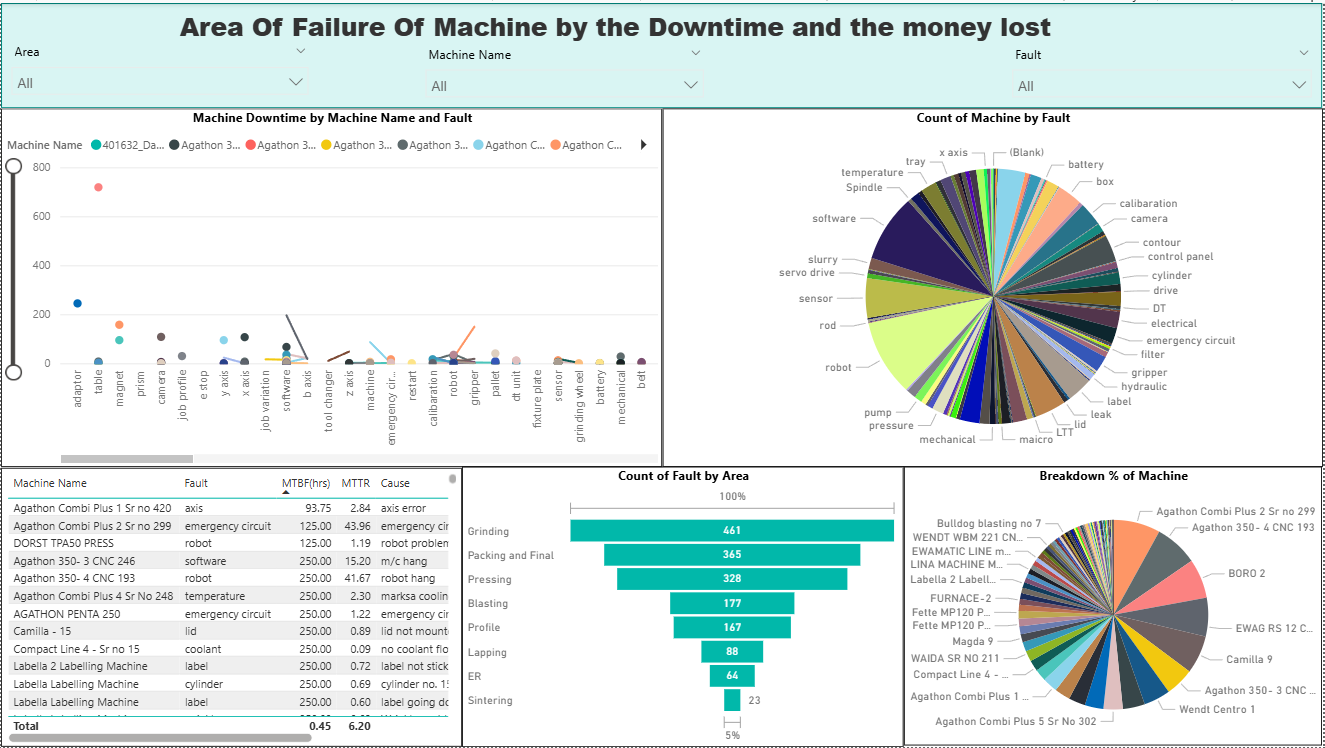

Layout of this report page (visuals, bound fields, positions):
{"tool":"powerbi","page":{"name":"FTM Analysis","canvas":[1280,720],"ordinal":0},"visuals":[{"type":"lineChart","title":"Machine Downtime by Machine Name and Fault","fields":{"Category":["Sheet1.Category of cause"],"Y":["Avg(Sheet1.Machine Downtime)"],"Series":["Sheet1.Machine Name"]},"box":[0,101.5,640.5,347.2],"z":0},{"type":"tableEx","fields":{"Values":["Sheet1.Machine Name","Sheet1.Category of cause","Sheet1.Measure","Sheet1.MTTR","Sheet1.Cause"]},"box":[0,449.8,446.2,270.2],"z":1000},{"type":"shape","box":[0,0,1279.3,101.8],"z":2000},{"type":"textbox","box":[0,0,1189.8,69.9],"z":3000},{"type":"slicer","fields":{"Values":["Sheet1.Machine Name"]},"box":[401.1,36.8,289.5,65],"z":4000},{"type":"slicer","fields":{"Values":["Sheet1.Category of cause"]},"box":[969,36.8,310.3,65],"z":5000},{"type":"slicer","fields":{"Values":["Sheet1.Area"]},"box":[0,34.3,307.9,65],"z":6000},{"type":"pieChart","title":"Breakdown % of Machine","fields":{"Category":["Sheet1.Machine Name"],"Y":["Avg(Sheet1.Breakdown %)"]},"box":[874,448.6,404.6,270.2],"z":7000},{"type":"pieChart","title":"Count of Machine by Fault","fields":{"Y":["CountNonNull(Sheet1.Machine Name)"],"Series":["Sheet1.Fault"]},"box":[640.5,101.5,639.3,347.2],"z":8000},{"type":"funnel","fields":{"Category":["Sheet1.Area"],"Y":["CountNonNull(Sheet1.Fault)"]},"box":[446.2,448.6,427.8,271.4],"z":9000}]}

Visuals, with their boxes in screenshot pixels (x1, y1, x2, y2), scaled from the page's 1280x720 canvas onto the 1325x748 screenshot:
"Machine Downtime by Machine Name and Fault" lineChart: region(0, 105, 663, 466)
tableEx - Sheet1.Machine Name x Sheet1.Category of cause: region(0, 467, 462, 747)
shape: region(0, 0, 1324, 106)
textbox: region(0, 0, 1232, 73)
slicer - Sheet1.Machine Name: region(415, 38, 715, 106)
slicer - Sheet1.Category of cause: region(1003, 38, 1324, 106)
slicer - Sheet1.Area: region(0, 36, 319, 103)
"Breakdown % of Machine" pieChart: region(905, 466, 1324, 747)
"Count of Machine by Fault" pieChart: region(663, 105, 1324, 466)
funnel - Sheet1.Area x CountNonNull(Sheet1.Fault): region(462, 466, 905, 747)
